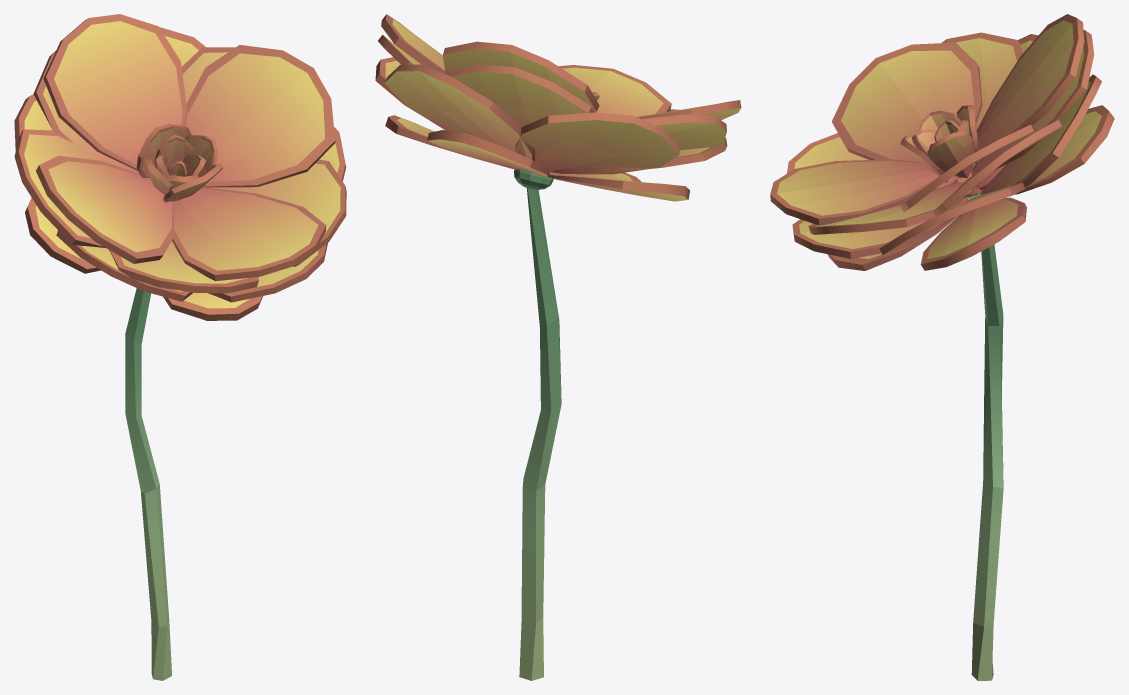
Rendered from Ranunculus_Orange.fbx.
The picture shows the model from 3 angles, left to right: view 1: azimuth 30°, elevation 25°; view 2: azimuth 150°, elevation 25°; view 3: azimuth 270°, elevation 25°; orthographic projection. The views are drawn at different scales.
Parts seen in each view (by area): view 1: Ranunculus_Orange; view 2: Ranunculus_Orange; view 3: Ranunculus_Orange.
Part boxes in pixels (<box>): Ranunculus_Orange: <box>14,14,346,680</box>; Ranunculus_Orange: <box>375,14,741,680</box>; Ranunculus_Orange: <box>770,14,1114,680</box>.
Size of the model in its own units: 25.06 by 48.48 by 23.46.
